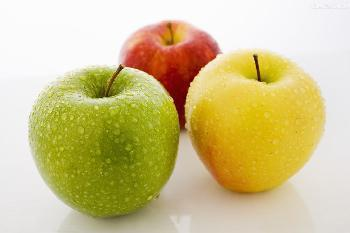apple: (26, 63, 180, 218), (184, 47, 325, 193), (117, 17, 222, 125)
